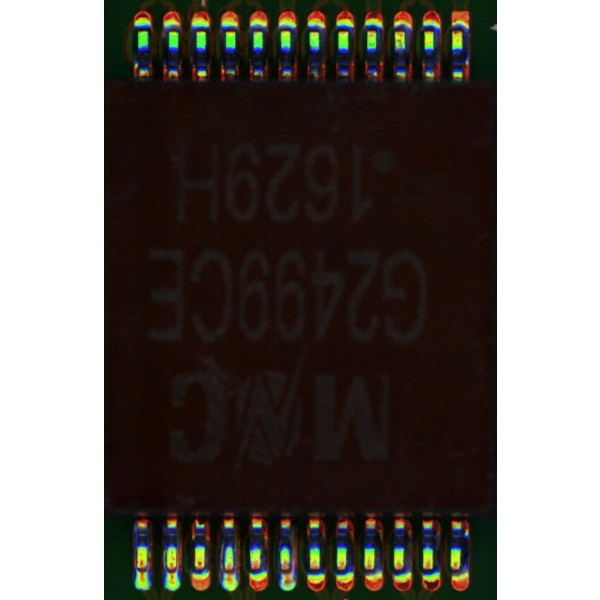Bad_podu: (138, 560, 146, 582), (225, 564, 234, 580), (281, 566, 291, 580), (168, 564, 175, 582)
